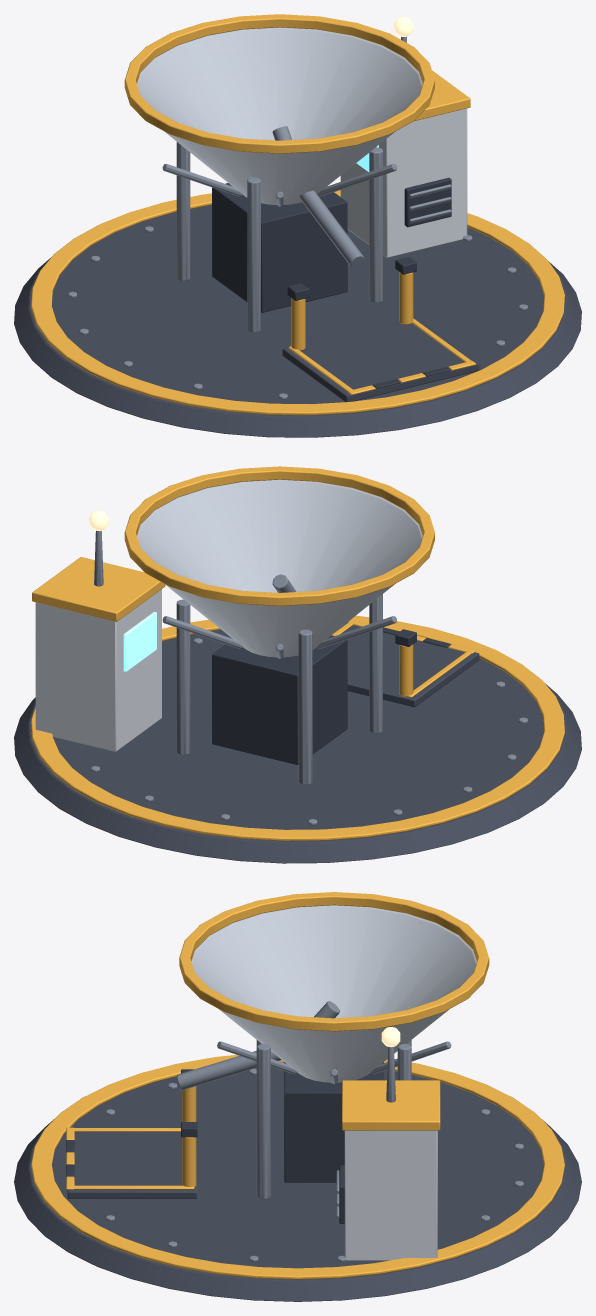
3 renders of one model, top to bottom at view 1: azimuth 30°, elevation 25°; view 2: azimuth 150°, elevation 25°; view 3: azimuth 270°, elevation 25°, orthographic.
Parts seen in each view (by area): view 1: u1_Koerper; view 2: u1_Koerper; view 3: u1_Koerper.
Part boxes in pixels (<box>): u1_Koerper: <box>14,14,581,437</box>; u1_Koerper: <box>14,466,581,863</box>; u1_Koerper: <box>14,892,581,1301</box>.
Bounding box in the file's own units: 5.49 × 2.44 × 5.49.
